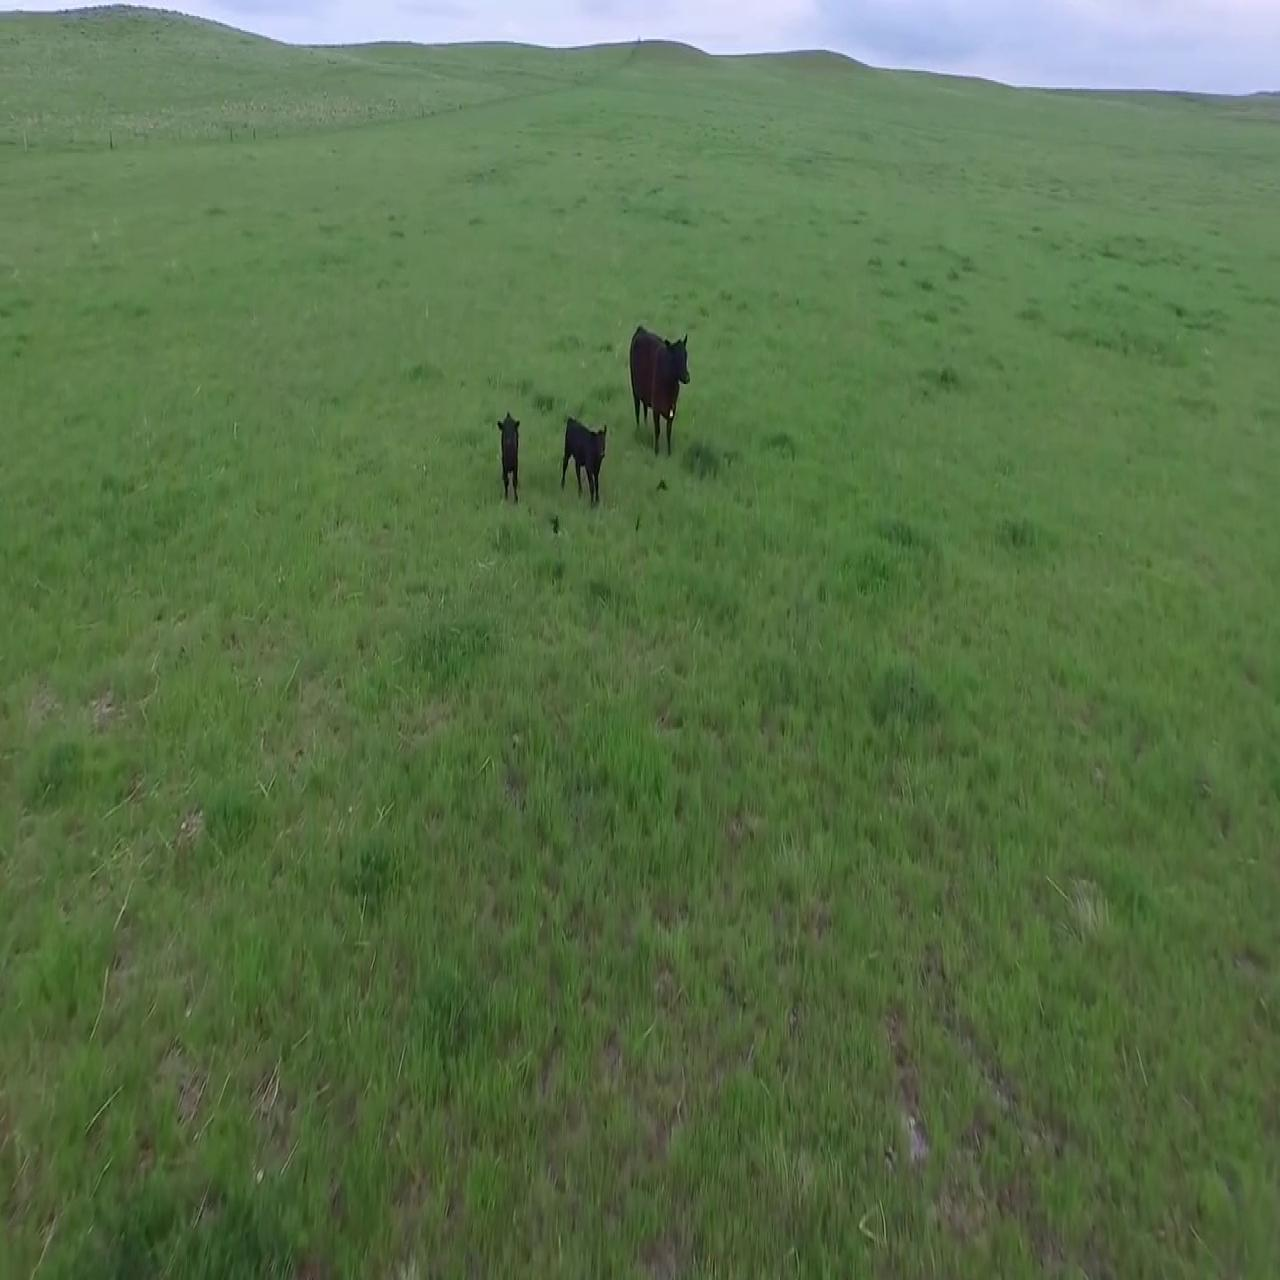cow: (626, 316, 694, 456), (556, 409, 613, 509), (491, 407, 526, 508)
